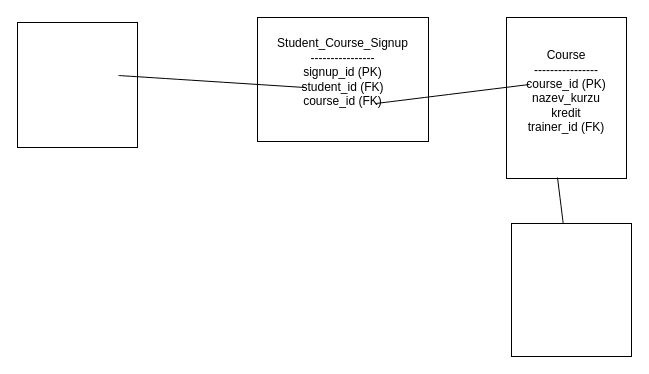
The diagram is 649 pixels wide and 374 high, and some of its shapes have lost their labels. Here are the shapes that lost their labels. From the top down, the centre of each, then its label:
the point at 77,85: Student ---------------- student_id (PK) jméno prijmeni datum_narozeni
the point at 571,289: Trainer ---------------- trainer_id (PK) jmeno prijmeni
